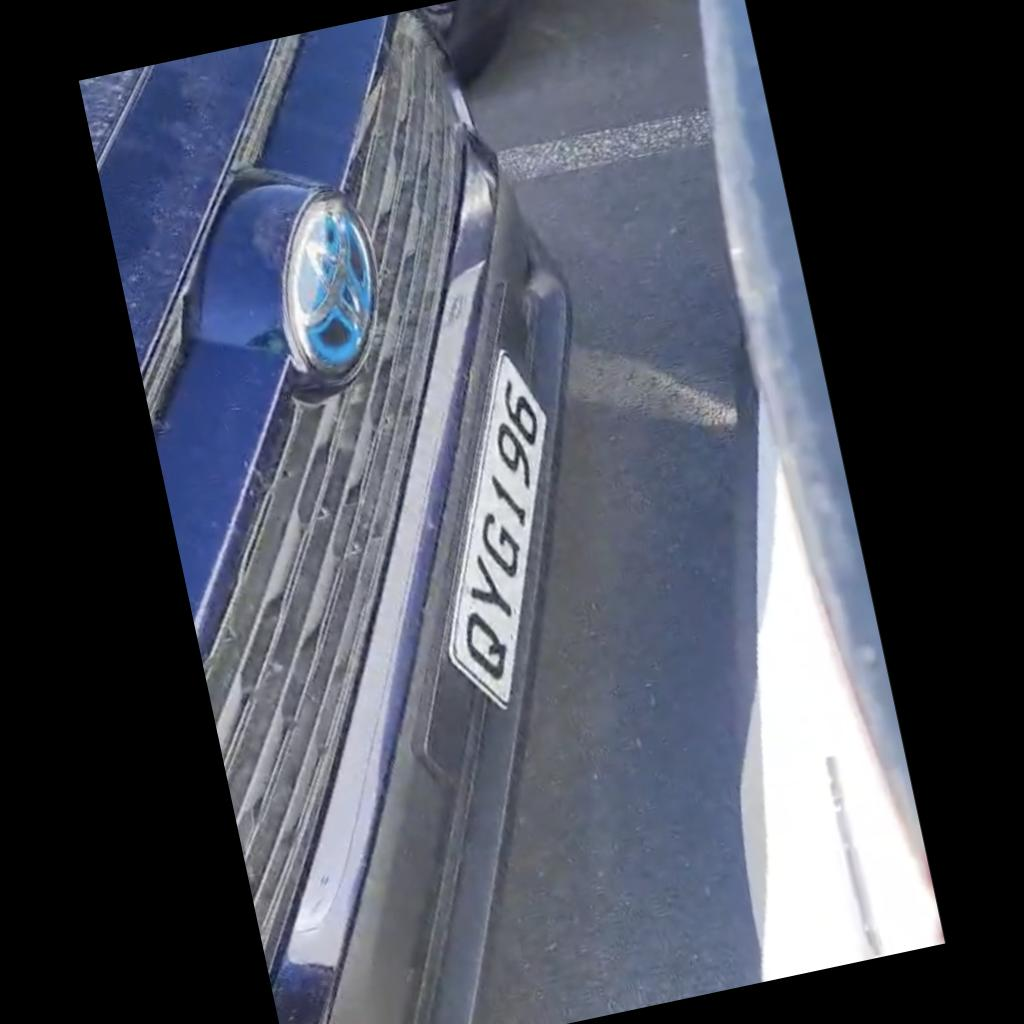Number-Plates: (439, 324, 562, 744)
